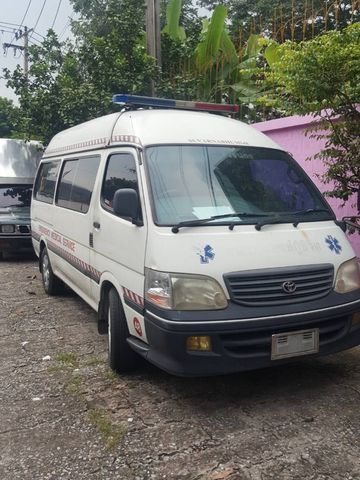van: (27, 102, 360, 384)
